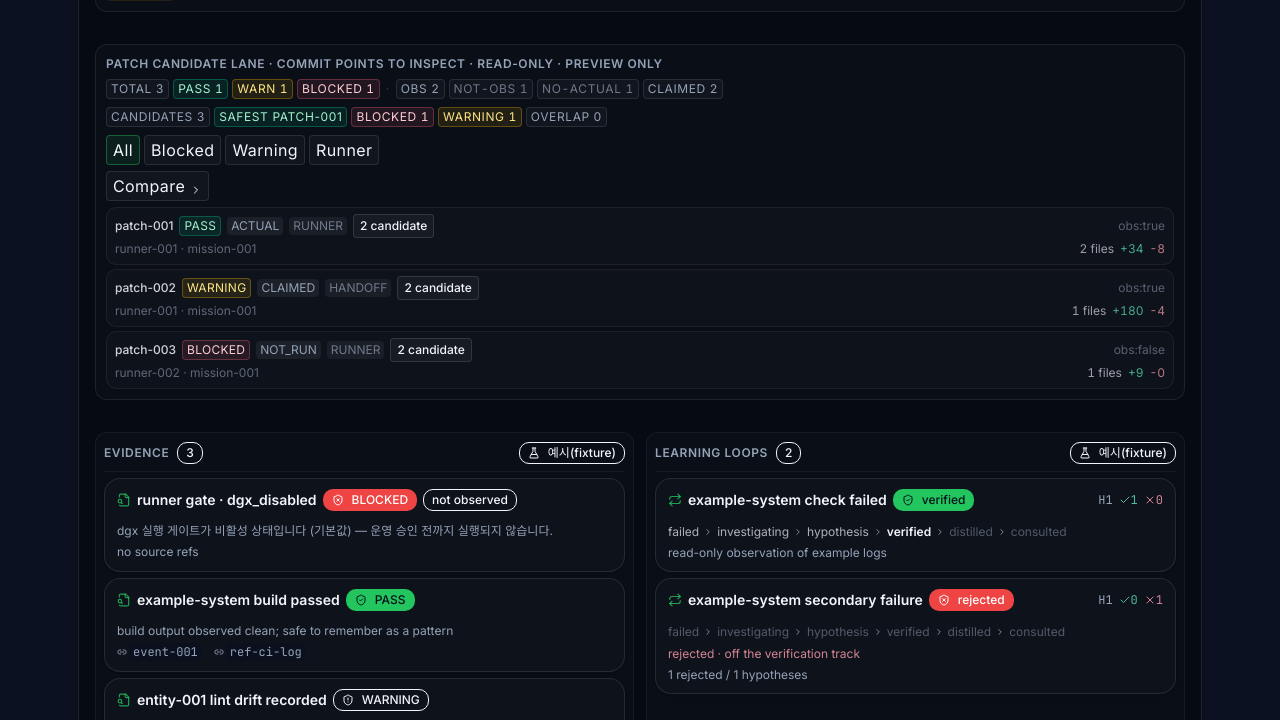
Batch 17 LINE B — patch detail drawer › a blocked candidate is still inspectable (drawer opens, shows blockers)
(page scrolled)
Click the button with test id "patch-candidate-patch-003" at (146, 350), box [106,331,1174,389]
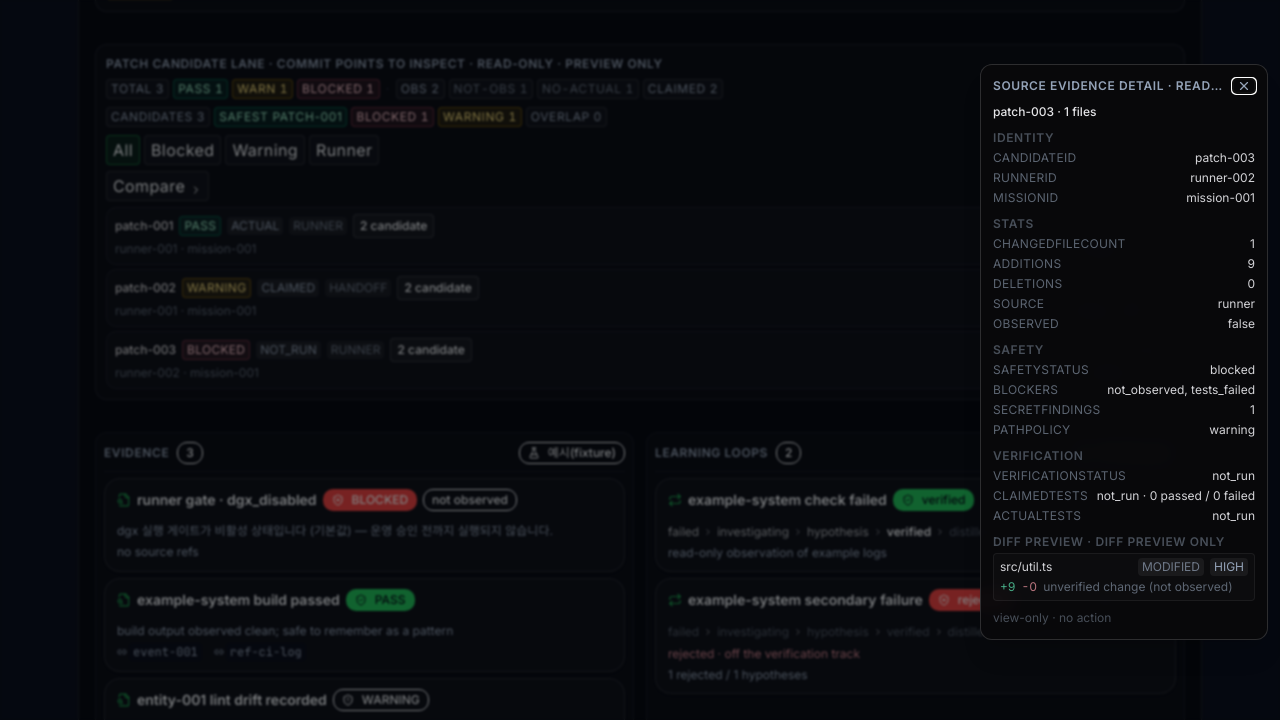
Expected: the element with test id "source-detail-field-blockers" shows "not_observed", [1107,382,1255,397]
